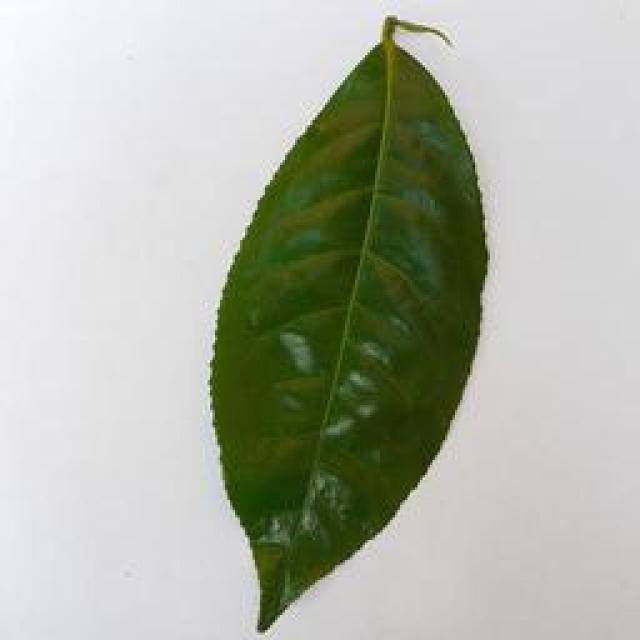Healthy: (205, 18, 495, 634)
